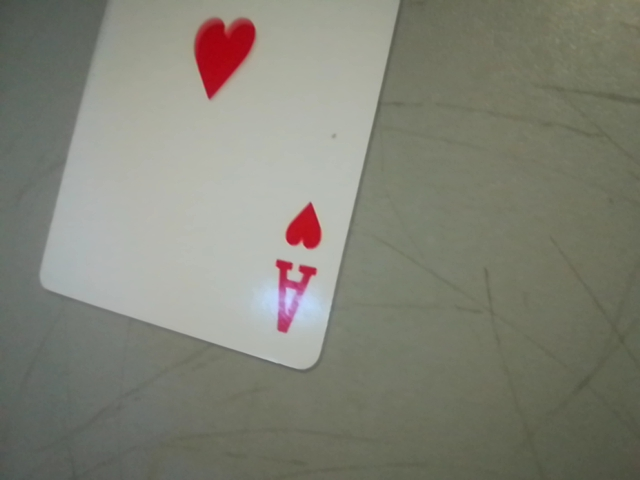hx a: (259, 188, 332, 350)
